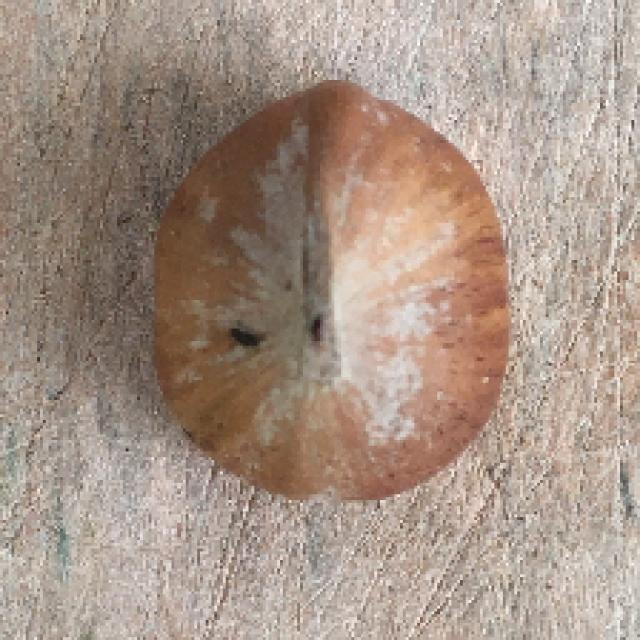qualityHazelnut: (141, 78, 507, 504)
